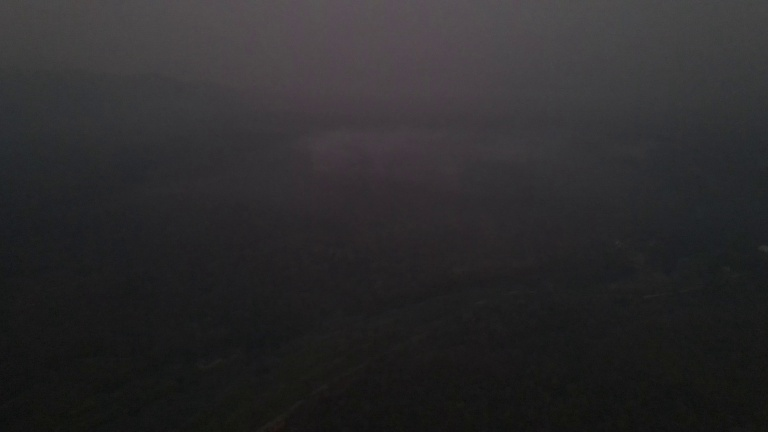smoke: (306, 126, 486, 187)
